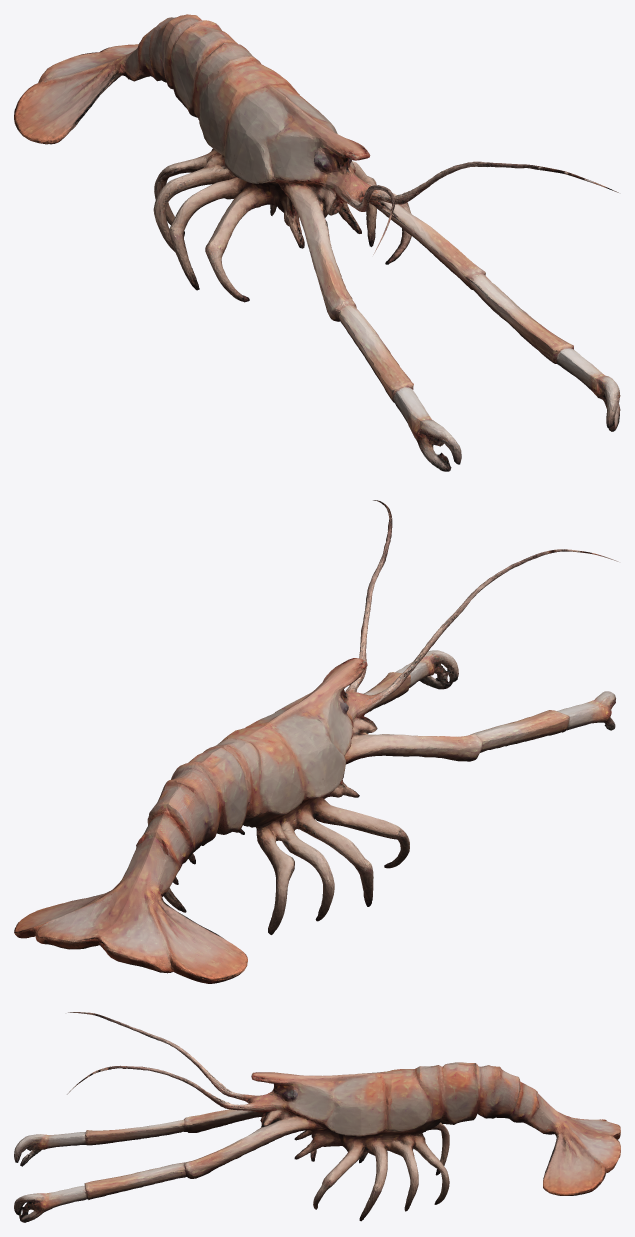
3 renders of one model, top to bottom at view 1: azimuth 30°, elevation 25°; view 2: azimuth 150°, elevation 25°; view 3: azimuth 270°, elevation 25°, orthographic. The views are drawn at different scales.
Visible parts, largest first — view 1: world; view 2: world; view 3: world.
Boxes of the visible parts, left/top/right/bottom form: world: left=14, top=14, right=620, bottom=471; world: left=14, top=500, right=618, bottom=983; world: left=14, top=1012, right=620, bottom=1222.
Size of the model in its own units: 0.0391 by 0.0331 by 0.12.
1 material, 1 textured.
